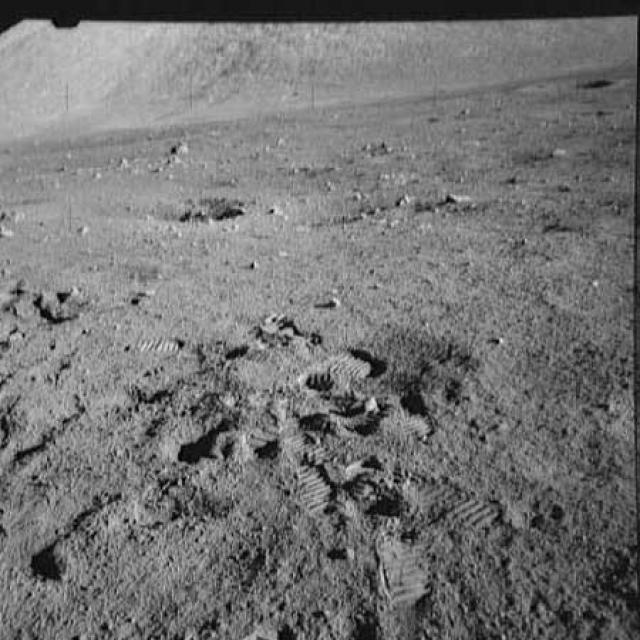crater: (125, 193, 255, 234)
